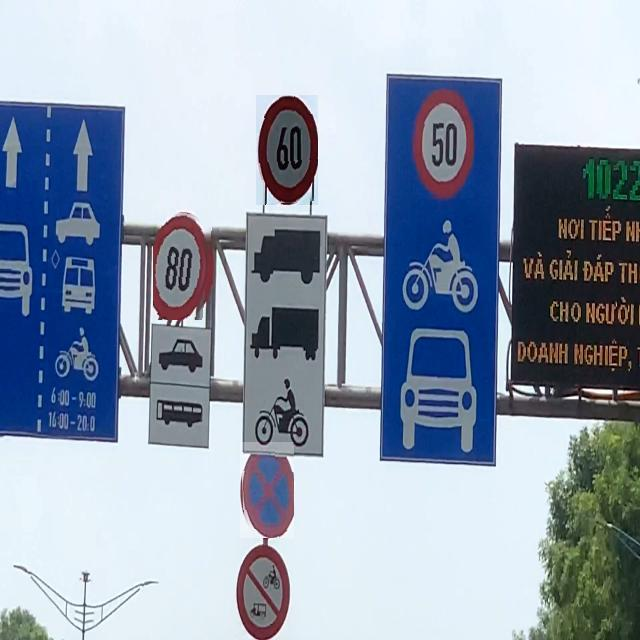P-127: (256, 95, 318, 205), (153, 210, 213, 320), (413, 90, 474, 198)
P-130: (240, 443, 294, 539)
